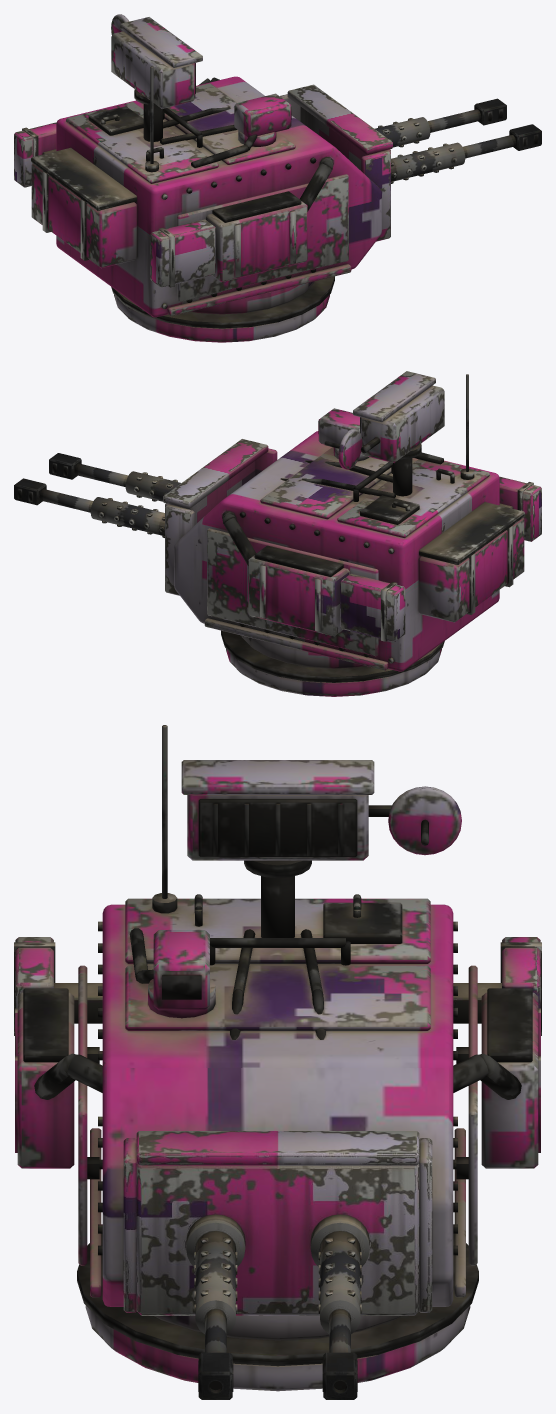
The model's file is turret_grach_evo_pixel.glb.
3 renders of one model, top to bottom at view 1: azimuth 30°, elevation 25°; view 2: azimuth 150°, elevation 25°; view 3: azimuth 270°, elevation 25°, orthographic. The views are drawn at different scales.
Visible parts, largest first — view 1: turret_light_evo, guns, pods; view 2: turret_light_evo, guns, pods; view 3: turret_light_evo, guns, pods.
Part boxes in pixels (<box>): turret_light_evo: <box>31,14,381,342</box>; guns: <box>280,84,541,241</box>; pods: <box>14,122,215,287</box>; turret_light_evo: <box>174,371,524,696</box>; guns: <box>14,439,277,595</box>; pods: <box>340,476,541,641</box>; turret_light_evo: <box>15,725,540,1391</box>; guns: <box>123,1131,432,1399</box>; pods: <box>14,937,541,1035</box>.
Size of the model in its own units: 1.86 by 1.09 by 1.05.
3 materials, 3 textured.
